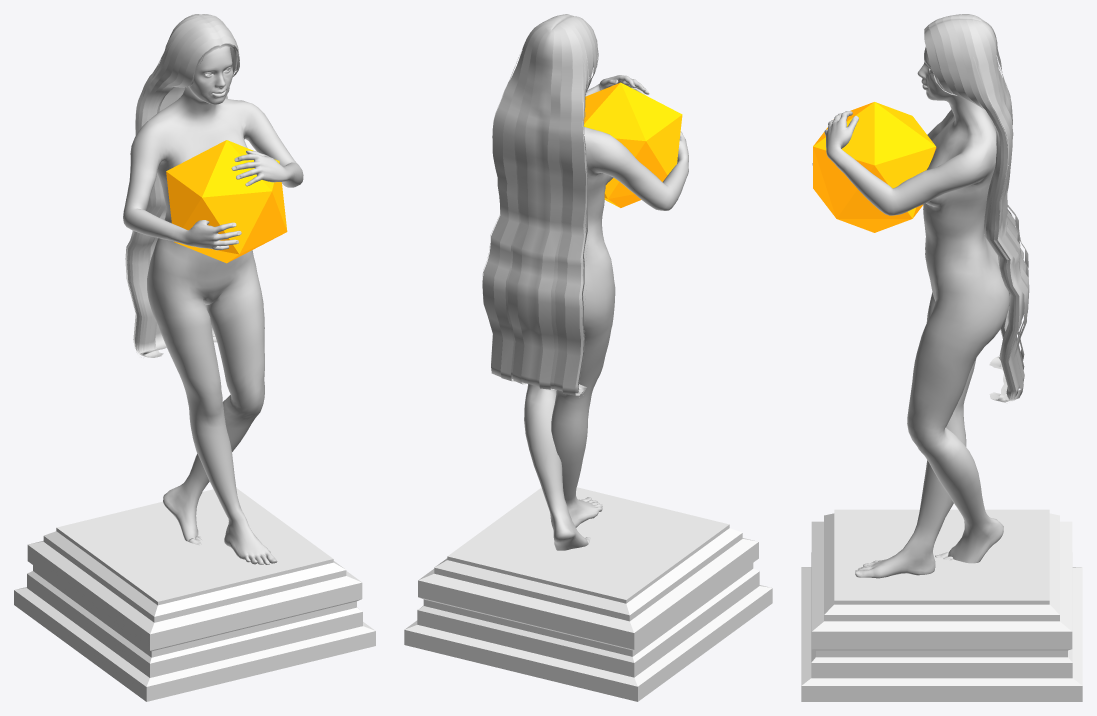
The model's file is creepy_statue_2.glb.
3 renders of one model, left to right at view 1: azimuth 30°, elevation 25°; view 2: azimuth 150°, elevation 25°; view 3: azimuth 270°, elevation 25°, orthographic. The views are drawn at different scales.
Visible parts, largest first — view 1: Cube.001, Human, Icosphere, Human.long01; view 2: Cube.001, Human.long01, Human, Icosphere; view 3: Cube.001, Human, Human.long01, Icosphere.
Boxes of the visible parts, x1=… form: Cube.001: x1=14, y1=488, x2=375, y2=701; Human: x1=123, y1=46, x2=303, y2=564; Icosphere: x1=166, y1=140, x2=287, y2=263; Human.long01: x1=125, y1=14, x2=239, y2=357; Cube.001: x1=404, y1=487, x2=772, y2=701; Human.long01: x1=482, y1=14, x2=598, y2=397; Human: x1=524, y1=75, x2=688, y2=550; Icosphere: x1=583, y1=82, x2=682, y2=207; Cube.001: x1=801, y1=509, x2=1082, y2=701; Human: x1=812, y1=47, x2=1009, y2=578; Human.long01: x1=924, y1=14, x2=1029, y2=402; Icosphere: x1=813, y1=102, x2=936, y2=232.
Bounding box in the file's own units: 0.7386 × 1.83 × 0.7386.
